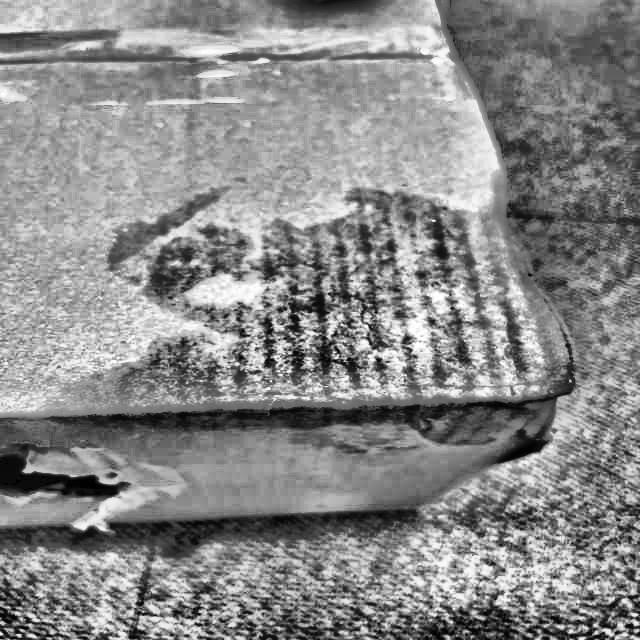box: (0, 3, 577, 526)
hole: (0, 432, 140, 554)
wet: (154, 223, 564, 447)
